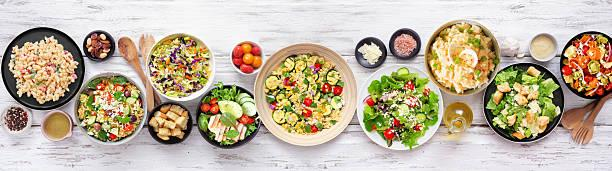Braised Crucian Carp: (254, 42, 355, 147), (357, 63, 441, 150), (0, 26, 84, 111), (482, 62, 565, 144), (424, 19, 498, 97), (73, 72, 146, 146), (145, 32, 215, 102), (195, 84, 260, 148), (560, 30, 612, 99)
